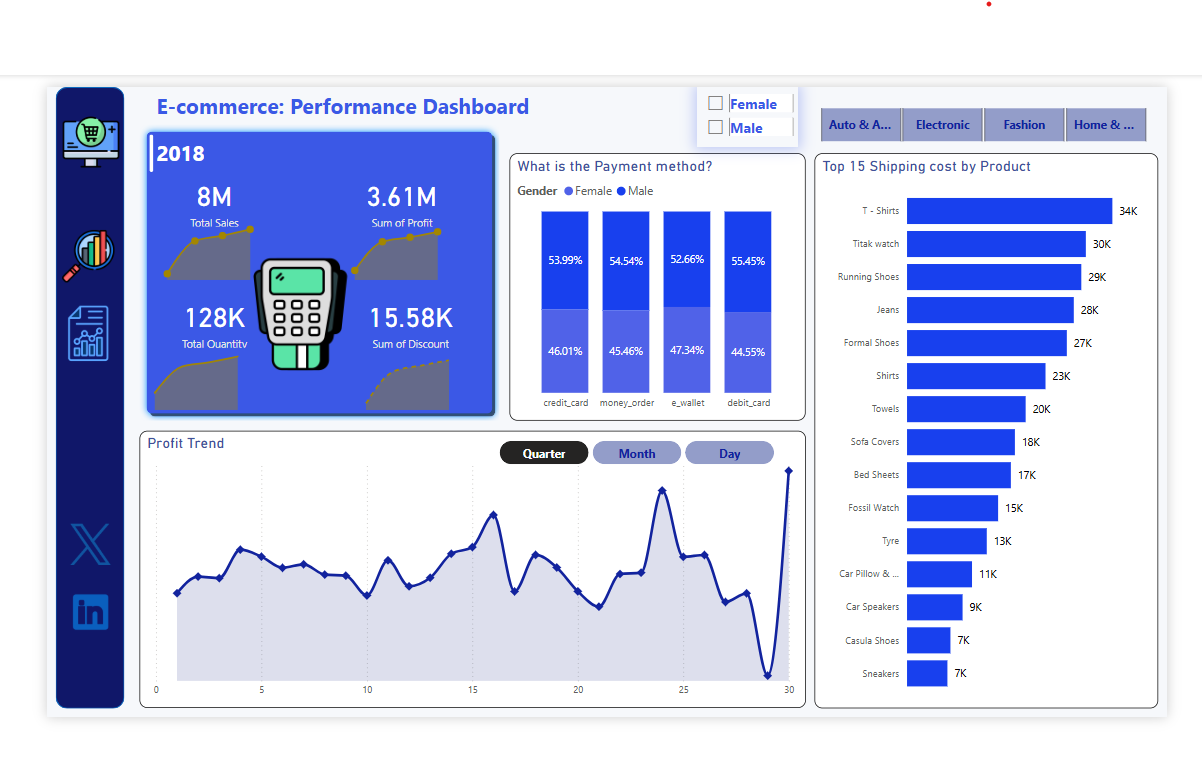

Layout of this report page (visuals, bound fields, positions):
{"tool":"powerbi","page":{"name":"Duplicate of Page 2","canvas":[1280,720],"ordinal":1},"visuals":[{"type":"shape","box":[10,0,78.6,710],"z":0},{"type":"shape","box":[105.7,42.9,411.4,338.6],"z":1000},{"type":"textbox","box":[120,54.3,77.1,42.9],"z":2000},{"type":"shape","box":[105.7,54.3,27.1,42.9],"z":3000},{"type":"card","fields":{"Values":["E_commerce_Dataset.Total Sales"]},"box":[132.9,97.1,117.1,67.1],"z":4000},{"type":"card","fields":{"Values":["Sum(E_commerce_Dataset.Profit)"]},"box":[347.1,97.1,117.1,67.1],"z":5000},{"type":"card","fields":{"Values":["E_commerce_Dataset.Total Quantity"]},"box":[132.9,235.7,117.1,67.1],"z":6000},{"type":"card","fields":{"Values":["Sum(E_commerce_Dataset.Discount)"]},"box":[357.1,235.7,117.1,67.1],"z":7000},{"type":"lineChart","title":"Profit Trend","fields":{"Category":["E_commerce_Dataset.Order_Date.Variation.Date Hierarchy.Year","E_commerce_Dataset.Order_Date.Variation.Date Hierarchy.Quarter","E_commerce_Dataset.Order_Date.Variation.Date Hierarchy.Month","E_commerce_Dataset.Order_Date.Variation.Date Hierarchy.Day"],"Y":["Sum(E_commerce_Dataset.Profit)"]},"box":[105.7,392.9,761.4,317.1],"z":8000},{"type":"hundredPercentStackedColumnChart","title":"What is the Payment method?","fields":{"Category":["E_commerce_Dataset.Payment_method"],"Y":["Sum(E_commerce_Dataset.Sales)"],"Series":["E_commerce_Dataset.Gender"]},"box":[528.6,75.7,338.6,305.7],"z":9000},{"type":"barChart","title":"Top 15 Shipping cost by Product","fields":{"Category":["E_commerce_Dataset.Product"],"Y":["Sum(E_commerce_Dataset.Shipping_Cost)"]},"box":[877.1,75.7,392.9,634.3],"z":10000},{"type":"lineChart","fields":{"Y":["Sum(E_commerce_Dataset.Sales)"],"Category":["E_commerce_Dataset.Order_Date.Variation.Date Hierarchy.Quarter"]},"box":[120,144.3,130,81.4],"z":11000},{"type":"lineChart","fields":{"Category":["E_commerce_Dataset.Order_Date.Variation.Date Hierarchy.Quarter"],"Y":["E_commerce_Dataset.Total Quantity"]},"box":[105.7,292.9,130,81.4],"z":12000},{"type":"lineChart","fields":{"Category":["E_commerce_Dataset.Order_Date.Variation.Date Hierarchy.Quarter"],"Y":["Sum(E_commerce_Dataset.Profit)"]},"box":[334.3,144.3,130,81.4],"z":13000},{"type":"lineChart","fields":{"Y":["Sum(E_commerce_Dataset.Discount)"],"Category":["E_commerce_Dataset.Order_Date.Variation.Date Hierarchy.Quarter"]},"box":[347.1,292.9,130,81.4],"z":14000},{"type":"textbox","box":[120,0,495.7,62.9],"z":15000},{"type":"slicer","fields":{"Values":["E_commerce_Dataset.Product_Category"]},"box":[858.6,17.1,421.4,51.4],"z":16000},{"type":"slicer","fields":{"Values":["E_commerce_Dataset.Gender"]},"box":[742.9,0,115.7,68.6],"z":17000},{"type":"image","box":[4.3,25.7,91.4,74.3],"z":18000},{"type":"image","box":[197.1,185.7,184.3,148.6],"z":19000},{"type":"image","box":[24.3,572.9,51.4,54.3],"z":20000},{"type":"image","box":[15.7,494.3,68.6,57.1],"z":21000},{"type":"bookmarkNavigator","box":[517.1,404.3,314.3,27.1],"z":22000},{"type":"image","box":[10,158.6,74.3,70],"z":23000},{"type":"image","box":[4.3,244.3,85.7,74.3],"z":24000}]}

Visuals, with their boxes on the page's 1280x720 design canvas (x1, y1, x2, y2). These are canvas units, not pixel positions in the 1202x768 screenshot, which may show the page scaled, cropped or inside an application window:
shape: {"x1": 10, "y1": 0, "x2": 89, "y2": 710}
shape: {"x1": 106, "y1": 43, "x2": 517, "y2": 382}
textbox: {"x1": 120, "y1": 54, "x2": 197, "y2": 97}
shape: {"x1": 106, "y1": 54, "x2": 133, "y2": 97}
card - E_commerce_Dataset.Total Sales: {"x1": 133, "y1": 97, "x2": 250, "y2": 164}
card - Sum(E_commerce_Dataset.Profit): {"x1": 347, "y1": 97, "x2": 464, "y2": 164}
card - E_commerce_Dataset.Total Quantity: {"x1": 133, "y1": 236, "x2": 250, "y2": 303}
card - Sum(E_commerce_Dataset.Discount): {"x1": 357, "y1": 236, "x2": 474, "y2": 303}
"Profit Trend" lineChart: {"x1": 106, "y1": 393, "x2": 867, "y2": 710}
"What is the Payment method?" hundredPercentStackedColumnChart: {"x1": 529, "y1": 76, "x2": 867, "y2": 381}
"Top 15 Shipping cost by Product" barChart: {"x1": 877, "y1": 76, "x2": 1270, "y2": 710}
lineChart - Sum(E_commerce_Dataset.Sales) x E_commerce_Dataset.Order_Date.Variation.Date Hierarchy.Quarter: {"x1": 120, "y1": 144, "x2": 250, "y2": 226}
lineChart - E_commerce_Dataset.Order_Date.Variation.Date Hierarchy.Quarter x E_commerce_Dataset.Total Quantity: {"x1": 106, "y1": 293, "x2": 236, "y2": 374}
lineChart - E_commerce_Dataset.Order_Date.Variation.Date Hierarchy.Quarter x Sum(E_commerce_Dataset.Profit): {"x1": 334, "y1": 144, "x2": 464, "y2": 226}
lineChart - Sum(E_commerce_Dataset.Discount) x E_commerce_Dataset.Order_Date.Variation.Date Hierarchy.Quarter: {"x1": 347, "y1": 293, "x2": 477, "y2": 374}
textbox: {"x1": 120, "y1": 0, "x2": 616, "y2": 63}
slicer - E_commerce_Dataset.Product_Category: {"x1": 859, "y1": 17, "x2": 1280, "y2": 68}
slicer - E_commerce_Dataset.Gender: {"x1": 743, "y1": 0, "x2": 859, "y2": 69}
image: {"x1": 4, "y1": 26, "x2": 96, "y2": 100}
image: {"x1": 197, "y1": 186, "x2": 381, "y2": 334}
image: {"x1": 24, "y1": 573, "x2": 76, "y2": 627}
image: {"x1": 16, "y1": 494, "x2": 84, "y2": 551}
bookmarkNavigator: {"x1": 517, "y1": 404, "x2": 831, "y2": 431}
image: {"x1": 10, "y1": 159, "x2": 84, "y2": 229}
image: {"x1": 4, "y1": 244, "x2": 90, "y2": 319}
